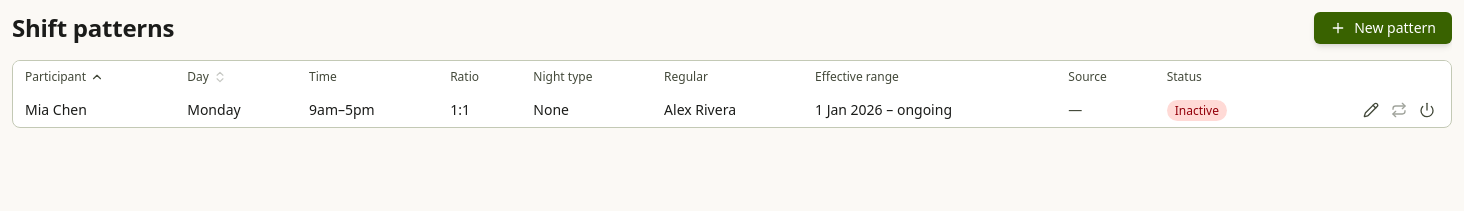
Test: PatternsPage — activating a pattern the server refuses › shows the server's own message, not a generic line, and sent the full body
What coordinates should you click on to do the following:
click the button named "Activate Mia Chen's Monday 9am–5pm pattern"
I would click on:
 (1427, 110)
Its box is x1=1415 y1=98 x2=1439 y2=122.
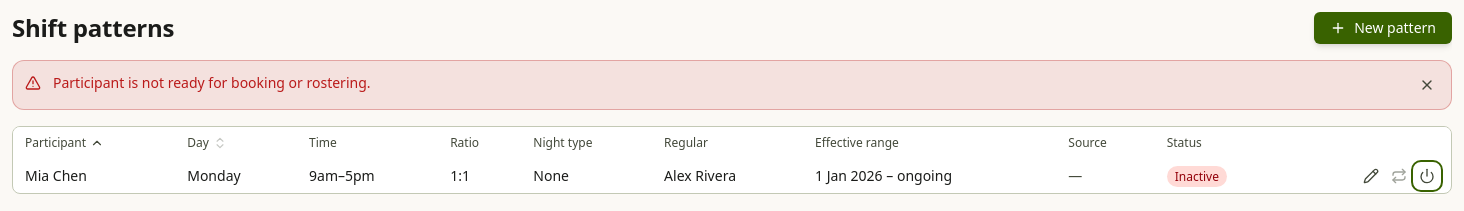
expect the text "Participant is not ready for booking or rostering." is shown: met, box x1=12 y1=60 x2=1452 y2=110
